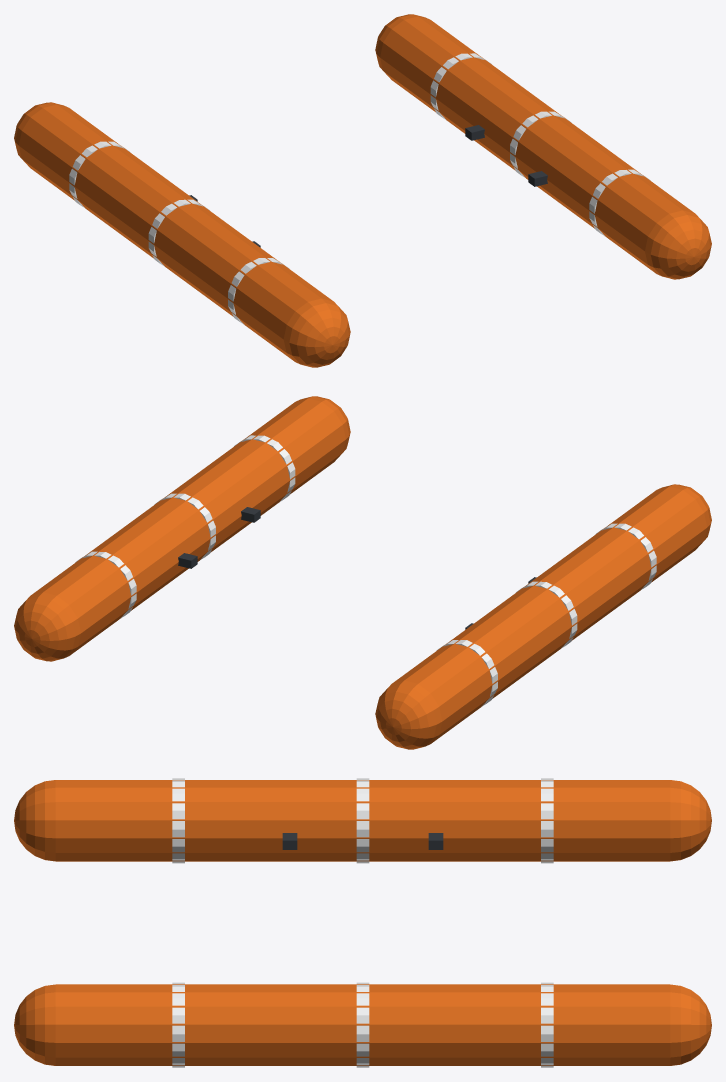
Rendered from kaze_gt.glb.
3 views of the same model, one above another, from view 1: azimuth 30°, elevation 25°; view 2: azimuth 150°, elevation 25°; view 3: azimuth 270°, elevation 25° (orthographic). The views are drawn at different scales.
Visible parts, largest first — view 1: model; view 2: model; view 3: model.
Part boxes in pixels (x1,y1,x2,y2): model: (14, 14, 711, 367); model: (14, 396, 711, 749); model: (14, 778, 711, 1067).
Size of the model in its own units: 2.72 by 0.408 by 3.35.
Materials: 1 (1 with a texture image).
